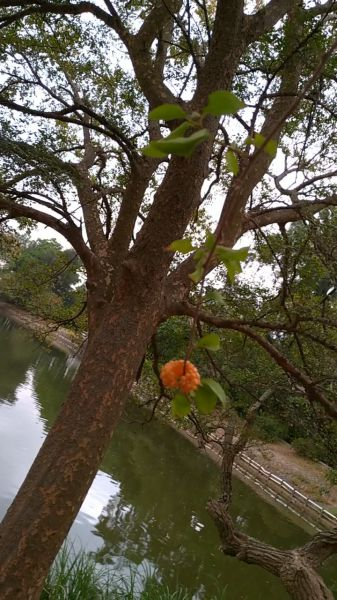eggs: (158, 351, 204, 394)
